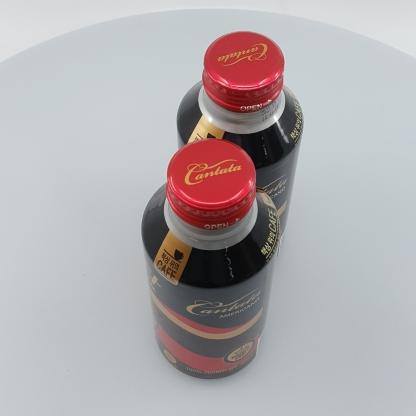--B_F---------: (141, 138, 281, 379), (177, 31, 304, 264)
